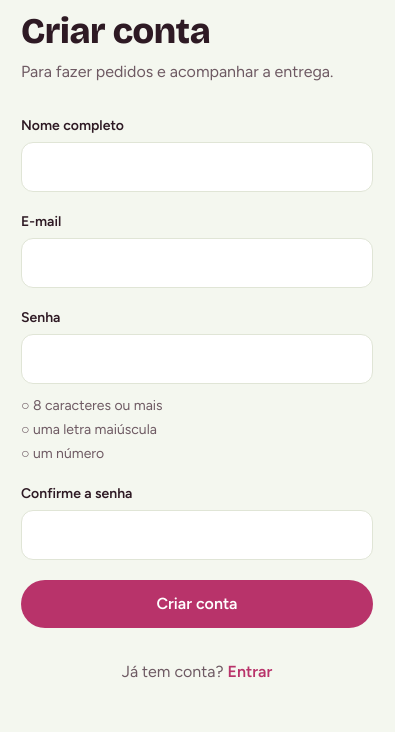
Scenario: HU 01 - formulário de cadastro › mostra erros sem chamar o servidor quando os dados são inválidos
In the field labelled "E-mail": (197, 263) [21,238,373,288], type "invalido"
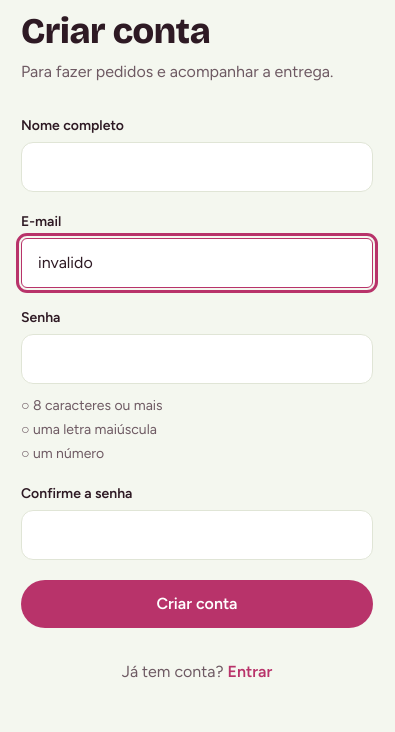
In the password field labelled "Senha": (197, 359) [21,334,373,384], type "fraca"
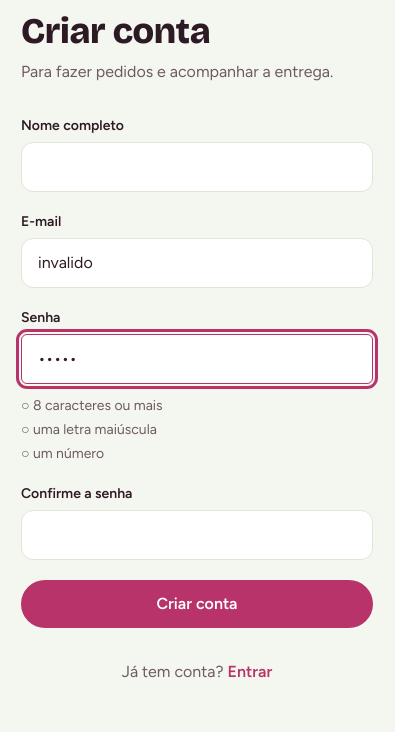
In the password field labelled "Confirme a senha": (197, 535) [21,510,373,560], type "outra"
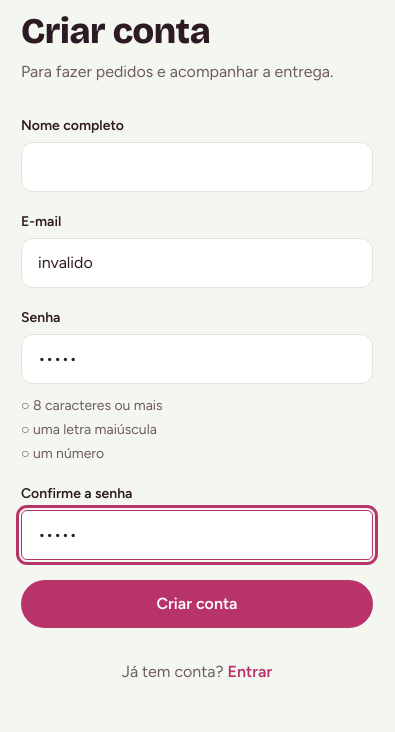
Click the button "Criar conta": (197, 604) [21,580,373,628]
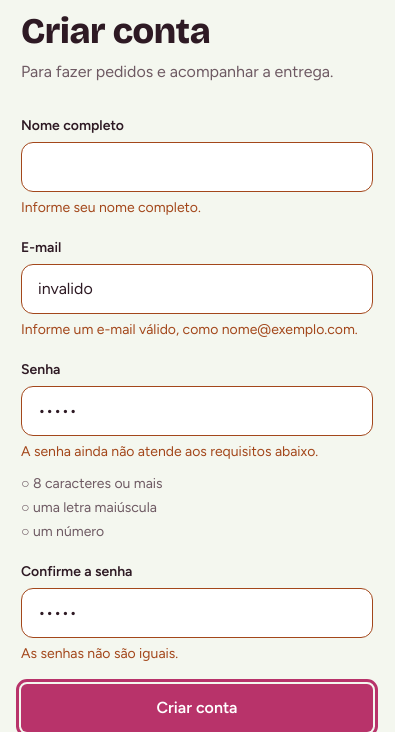
Expected: the text "Informe seu nome completo." is shown, [21,199,201,216]
Expected: the text "Informe um e-mail válido, como nome@exemplo.com." is shown, [21,320,373,340]
Expected: the text "As senhas não são iguais." is shown, [21,645,178,662]
